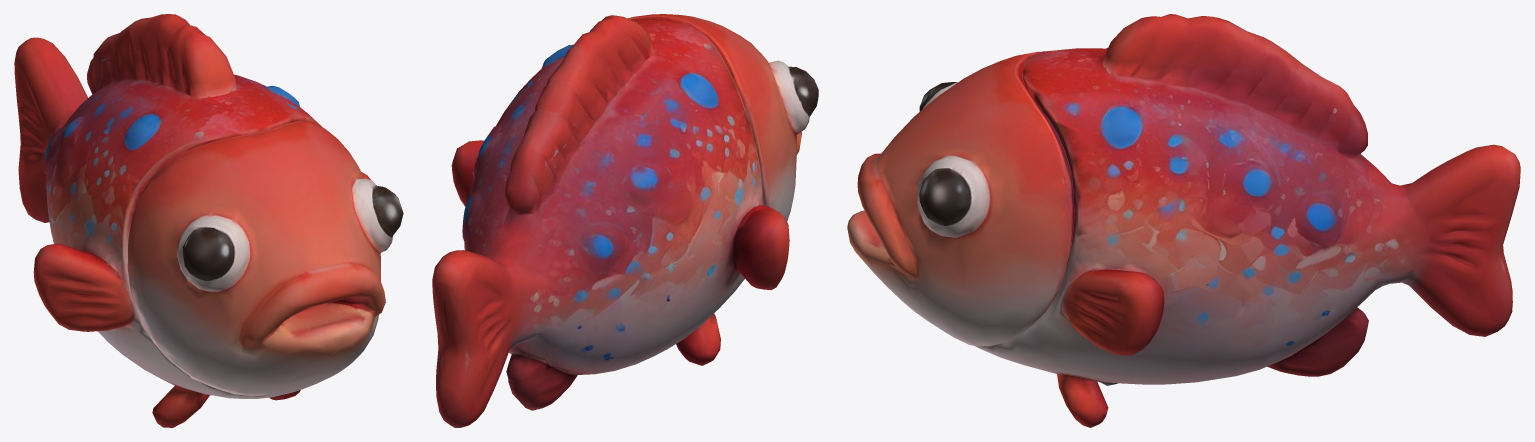
File: seabream.glb
3 renders of one model, left to right at view 1: azimuth 30°, elevation 25°; view 2: azimuth 150°, elevation 25°; view 3: azimuth 270°, elevation 25°, orthographic. The views are drawn at different scales.
Visible parts, largest first — view 1: tripo_node_a574fd1e-d6dd-4d46-ba06-bce57b617d55; view 2: tripo_node_a574fd1e-d6dd-4d46-ba06-bce57b617d55; view 3: tripo_node_a574fd1e-d6dd-4d46-ba06-bce57b617d55.
Part boxes in pixels (x1,y1,x2,y2): tripo_node_a574fd1e-d6dd-4d46-ba06-bce57b617d55: [14, 14, 403, 427]; tripo_node_a574fd1e-d6dd-4d46-ba06-bce57b617d55: [432, 14, 818, 427]; tripo_node_a574fd1e-d6dd-4d46-ba06-bce57b617d55: [847, 14, 1520, 427].
Bounding box in the file's own units: 0.6129 × 0.6256 × 1.
Materials: 1 (1 with a texture image).
